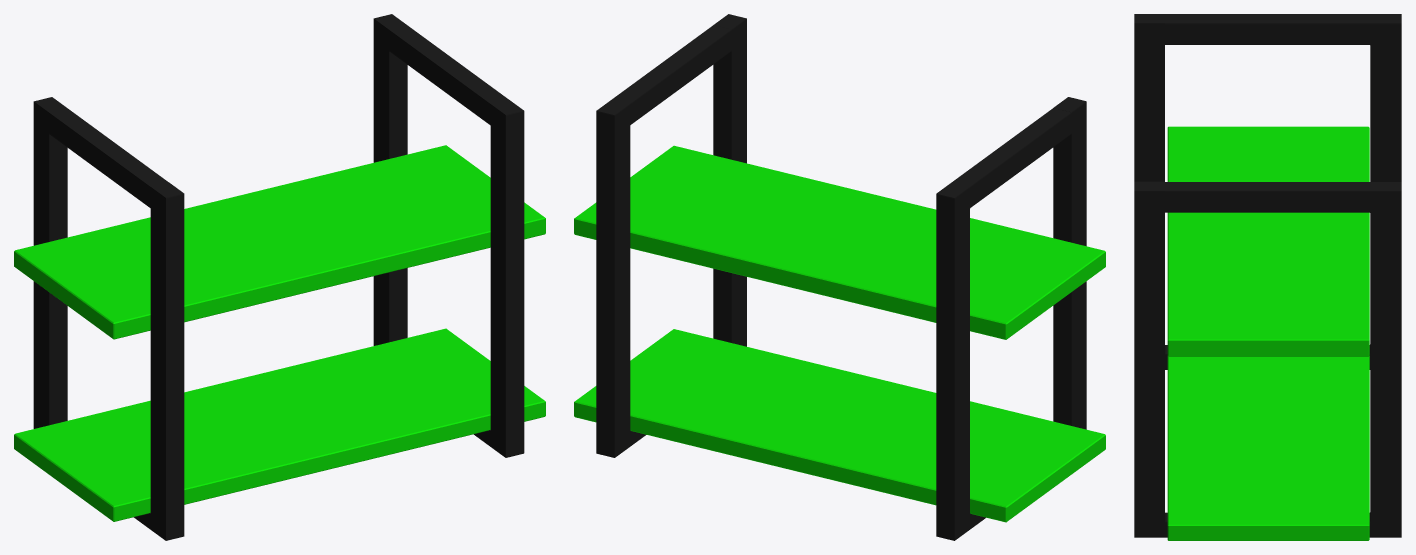
The model's file is Shelf.fbx.
3 views of the same model, side by side, from view 1: azimuth 30°, elevation 25°; view 2: azimuth 150°, elevation 25°; view 3: azimuth 270°, elevation 25° (orthographic).
Parts seen in each view (by area): view 1: Cube.005, Cube.004, Cube.006, Cube.007; view 2: Cube.005, Cube.004, Cube.006, Cube.007; view 3: Cube.005, Cube.004, Cube.007, Cube.006.
Part boxes in pixels (<box>): Cube.005: <box>14,145,545,339</box>; Cube.004: <box>14,328,545,521</box>; Cube.006: <box>33,97,184,540</box>; Cube.007: <box>373,14,524,457</box>; Cube.005: <box>574,145,1105,339</box>; Cube.004: <box>574,329,1105,522</box>; Cube.006: <box>936,97,1086,540</box>; Cube.007: <box>596,14,746,457</box>; Cube.005: <box>1167,126,1369,356</box>; Cube.004: <box>1167,356,1369,540</box>; Cube.007: <box>1134,181,1401,537</box>; Cube.006: <box>1134,14,1401,369</box>.
Bounding box in the file's own units: 501 × 379 × 265.
